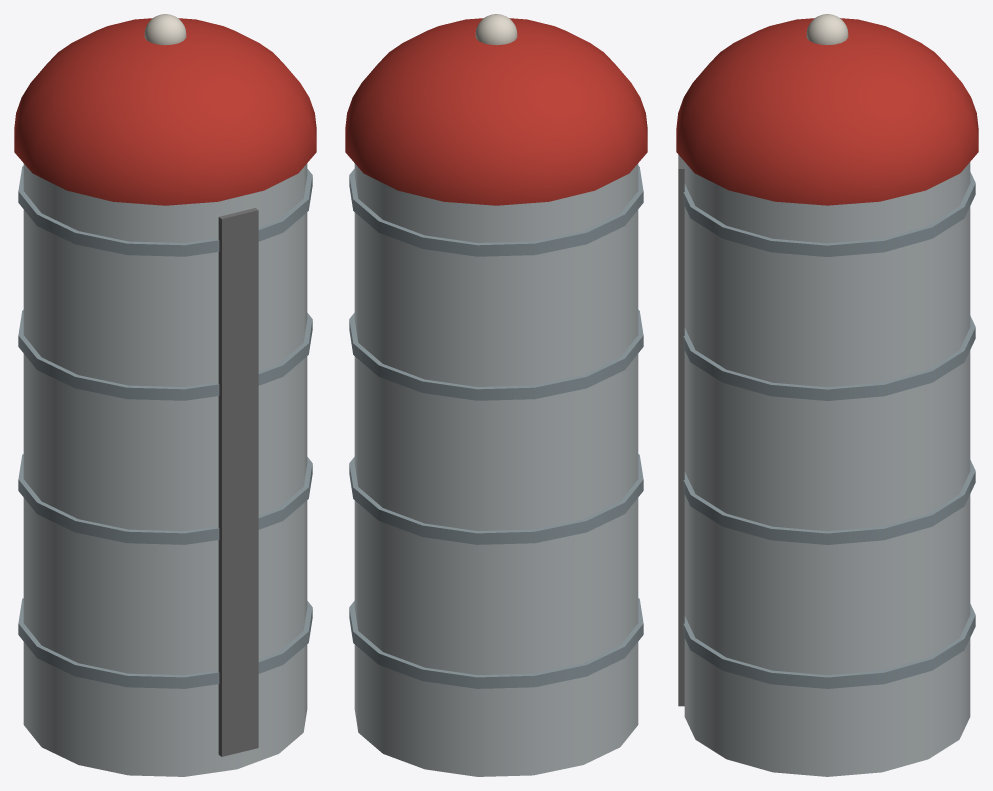
File: silo.glb
3 renders of one model, left to right at view 1: azimuth 30°, elevation 25°; view 2: azimuth 150°, elevation 25°; view 3: azimuth 270°, elevation 25°, orthographic.
Parts seen in each view (by area): view 1: farm_silo; view 2: farm_silo; view 3: farm_silo.
Part boxes in pixels (x1=…): farm_silo: x1=14, y1=14, x2=316, y2=776; farm_silo: x1=345, y1=14, x2=647, y2=776; farm_silo: x1=676, y1=14, x2=978, y2=776.
Bounding box in the file's own units: 2.9 × 7.3 × 2.86.
